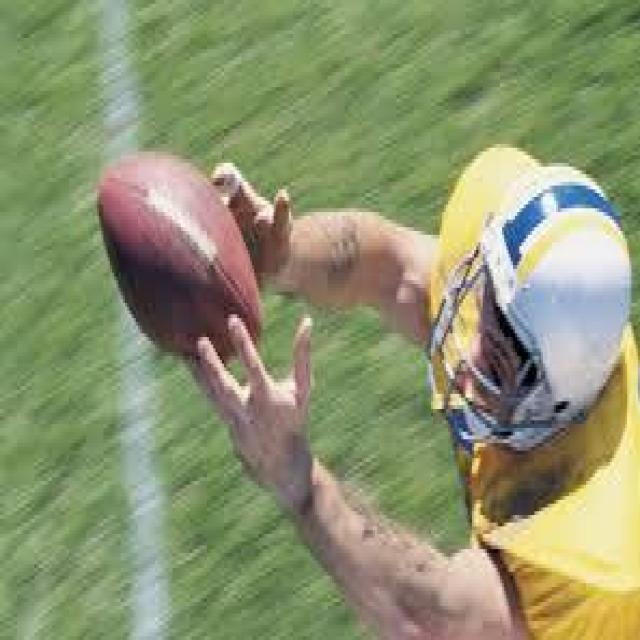ball: (76, 119, 273, 396)
